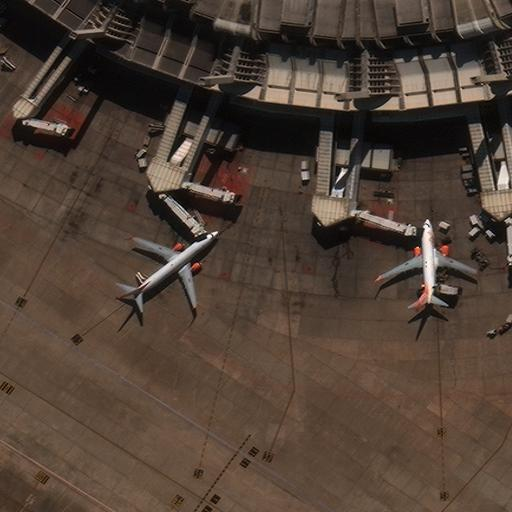Medium Civil Transport: (377, 218, 477, 307), (121, 231, 218, 305)
